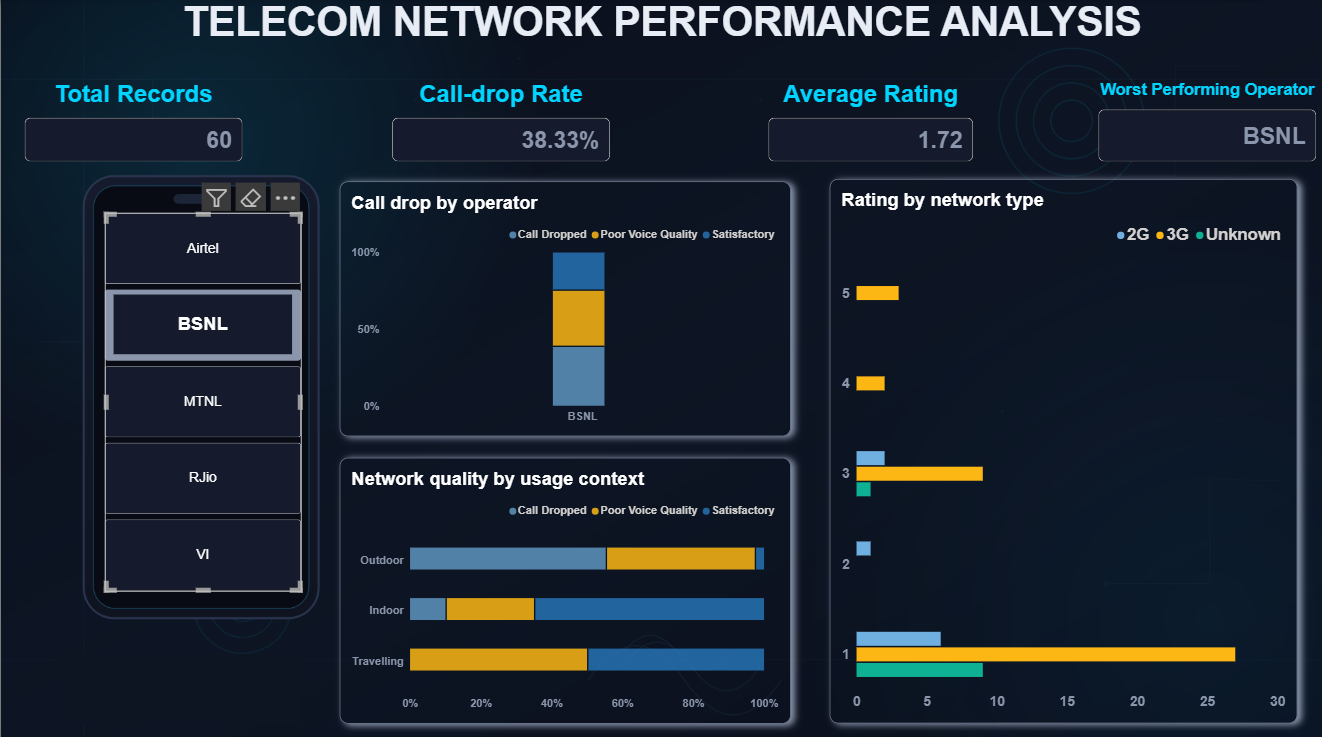

Layout of this report page (visuals, bound fields, positions):
{"tool":"powerbi","page":{"name":"Page 1","canvas":[1920,1080],"ordinal":0},"visuals":[{"type":"textbox","box":[10.3,0,1893.7,98.8],"z":0},{"type":"cardVisual","title":"Total Records","fields":{"Data":["Telecom Network.Total Records"]},"box":[35,117.3,315,118],"z":1000},{"type":"cardVisual","title":"Call-drop Rate","fields":{"Data":["Telecom Network.Call Drop Rate"]},"box":[566,117.3,315,118],"z":2000},{"type":"cardVisual","title":"Average Rating","fields":{"Data":["Telecom Network.Average Rating"]},"box":[1111.5,117.3,296,118],"z":3000},{"type":"cardVisual","title":"Worst Performing Operator","fields":{"Data":["Telecom Network.Worst Operator Name"]},"box":[1589,117.3,315,118],"z":4000},{"type":"hundredPercentStackedColumnChart","title":"Call drop by operator","fields":{"Category":["Telecom Network.operator"],"Y":["Telecom Network.Total Records"],"Series":["Telecom Network.calldrop_category"]},"box":[489.9,263.5,652.5,368.4],"z":5000},{"type":"clusteredBarChart","title":"Rating by network type","fields":{"Category":["Telecom Network.rating"],"Y":["Telecom Network.Total Records"],"Series":["Telecom Network.network_type"]},"box":[1200,261.4,677.2,788.3],"z":5002},{"type":"hundredPercentStackedBarChart","title":"Network quality by usage context","fields":{"Category":["Telecom Network.inout_travelling"],"Y":["Telecom Network.Total Records"],"Series":["Telecom Network.calldrop_category"]},"box":[489.9,664.8,652.5,384.9],"z":5003},{"type":"advancedSlicerVisual","fields":{"Values":["Telecom Network.operator"]},"box":[150.3,308.7,284,549.6],"z":5004},{"type":"textbox","box":[80.3,948.9,354,100.9],"z":5005}]}

Visuals, with their boxes in screenshot pixels (x1, y1, x2, y2), scaled from the page's 1920x1080 canvas onto the 1322x737 screenshot:
textbox: [7, 0, 1311, 67]
"Total Records" cardVisual: [24, 80, 241, 161]
"Call-drop Rate" cardVisual: [390, 80, 607, 161]
"Average Rating" cardVisual: [765, 80, 969, 161]
"Worst Performing Operator" cardVisual: [1094, 80, 1311, 161]
"Call drop by operator" hundredPercentStackedColumnChart: [337, 180, 787, 431]
"Rating by network type" clusteredBarChart: [826, 178, 1293, 716]
"Network quality by usage context" hundredPercentStackedBarChart: [337, 454, 787, 716]
advancedSlicerVisual - Telecom Network.operator: [103, 211, 299, 586]
textbox: [55, 648, 299, 716]
